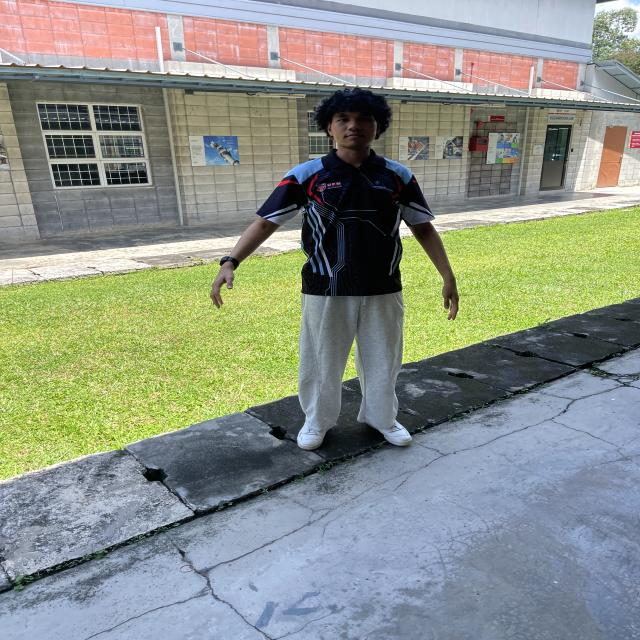person_without_labcoat: (211, 89, 459, 450)
